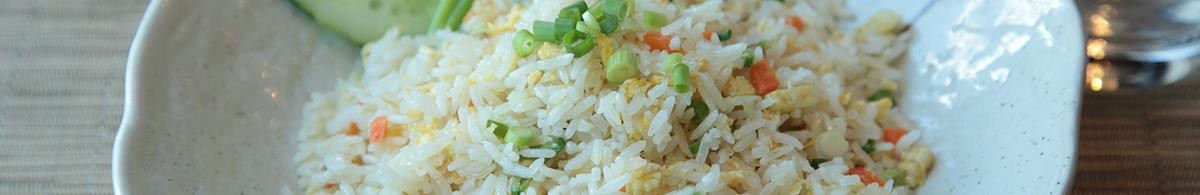plain rice: (278, 9, 924, 192)
